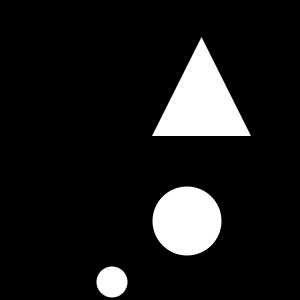rectangle: (152, 186, 222, 256), (96, 266, 128, 298)
triangle: (152, 37, 251, 136)
